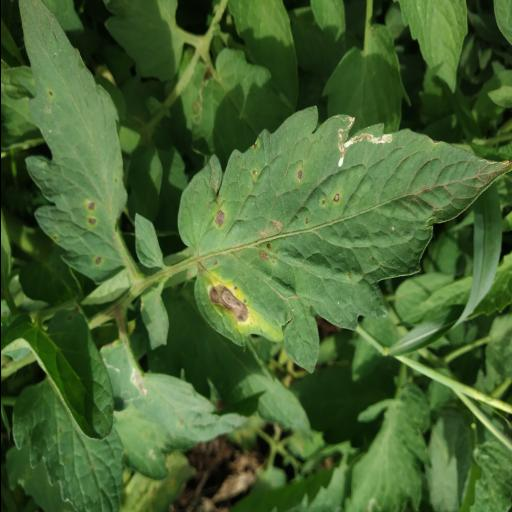Early Blight: (176, 104, 512, 376), (16, 0, 126, 282)
